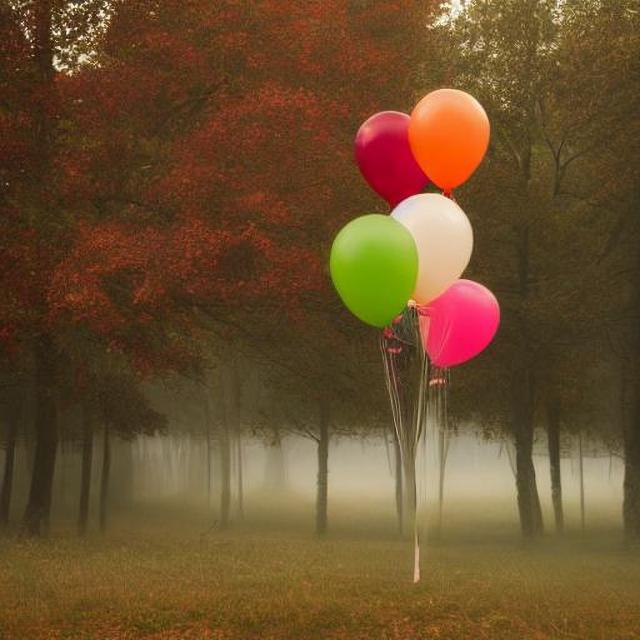balloon: (340, 90, 526, 347)
